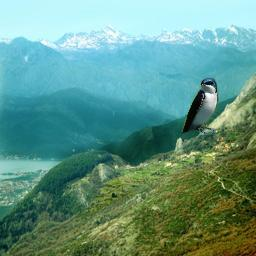Swallow: (182, 77, 219, 135)
